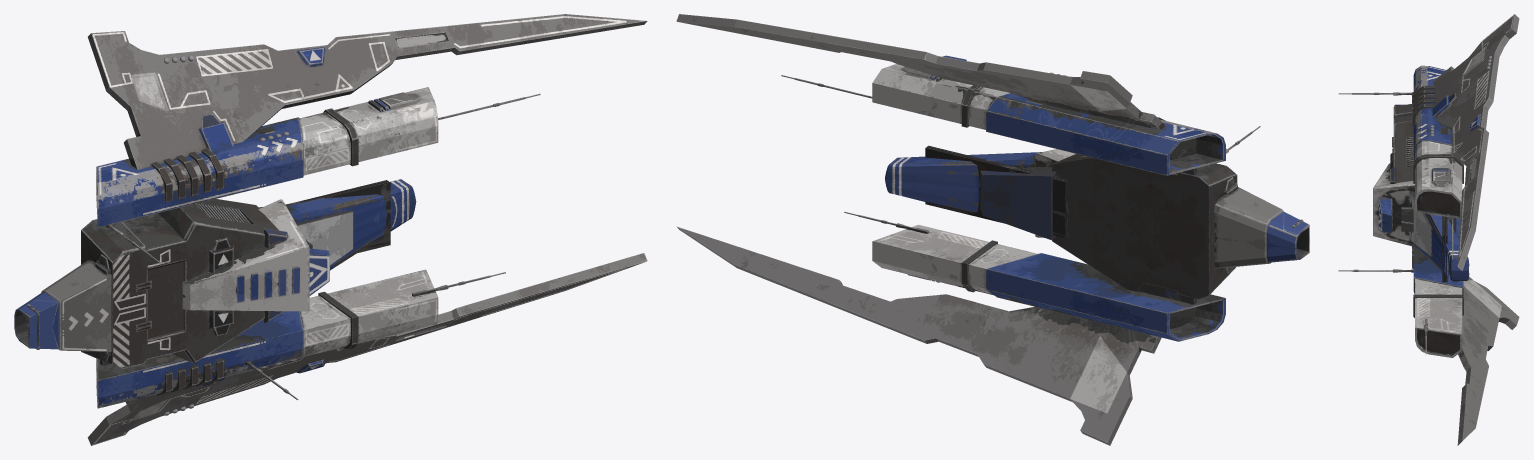
File: SM_Fighter_Hull.obj
3 renders of one model, left to right at view 1: azimuth 30°, elevation 25°; view 2: azimuth 150°, elevation 25°; view 3: azimuth 270°, elevation 25°, orthographic. The views are drawn at different scales.
Parts seen in each view (by area): view 1: SM_Fighter_Hull; view 2: SM_Fighter_Hull; view 3: SM_Fighter_Hull.
Boxes of the visible parts, x1,y1,x2,y2 form: SM_Fighter_Hull: (14, 14, 647, 445); SM_Fighter_Hull: (676, 14, 1309, 445); SM_Fighter_Hull: (1338, 14, 1519, 445).
Bounding box in the file's own units: 1180 × 705 × 376.
Materials: 1 (1 with a texture image).
